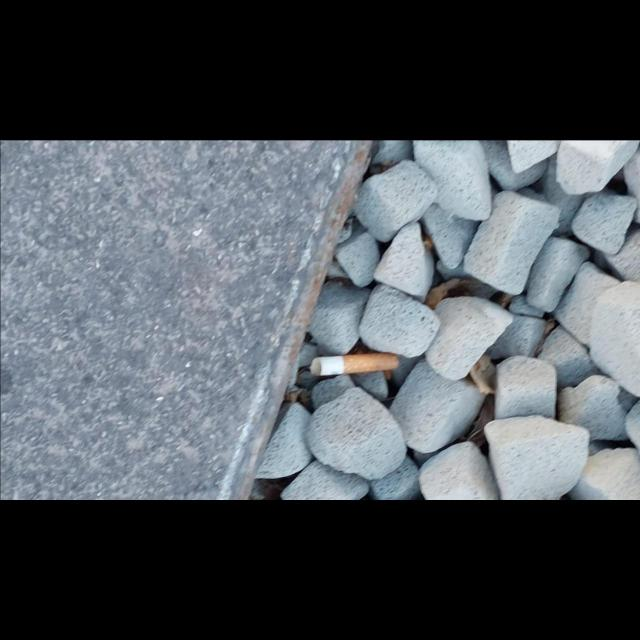cigarette: (309, 352, 400, 376)
